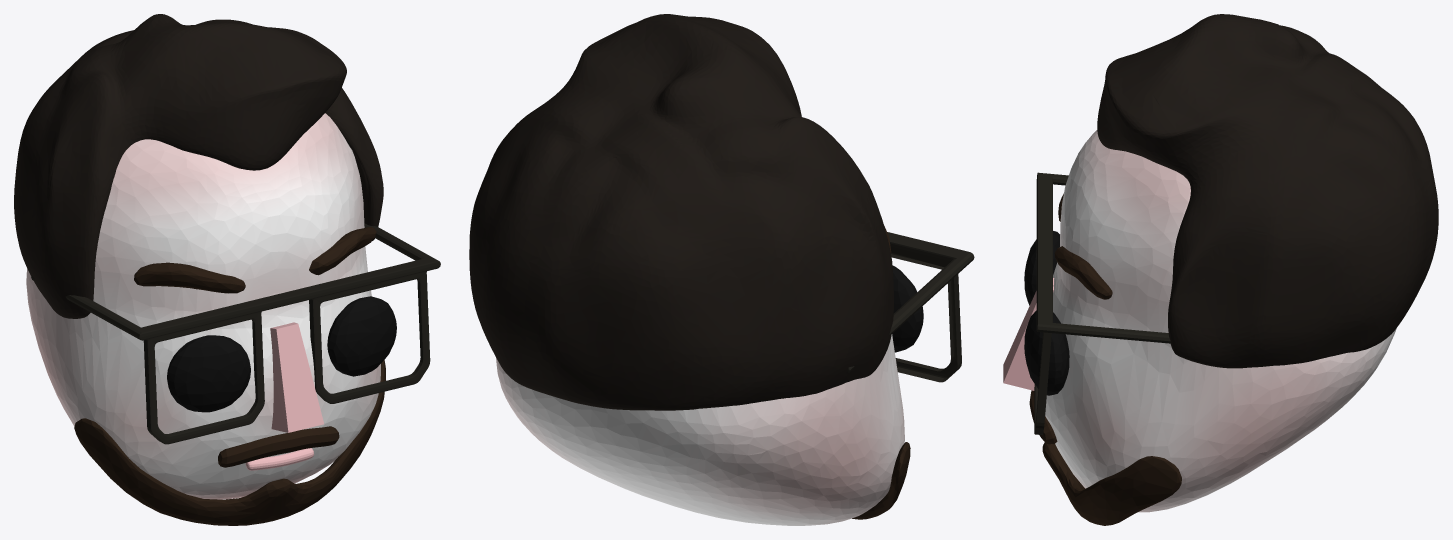
Rendered from avatar.gltf.
3 renders of one model, left to right at view 1: azimuth 30°, elevation 25°; view 2: azimuth 150°, elevation 25°; view 3: azimuth 270°, elevation 25°, orthographic. The views are drawn at different scales.
Parts seen in each view (by area): view 1: Head, Hair, Glasses, Beard, Eyes, Nose, Eyebrows, Mostache, Lips; view 2: Hair, Head, Glasses, Eyes, Beard; view 3: Hair, Head, Beard, Glasses, Eyes, Nose, Eyebrows.
Boxes of the visible parts, box(x1,y1,x2,y2) form: Head: box(26, 113, 380, 499); Hair: box(14, 14, 383, 318); Glasses: box(31, 223, 440, 444); Beard: box(74, 360, 385, 525); Eyes: box(167, 296, 396, 412); Nose: box(270, 322, 323, 432); Eyebrows: box(134, 227, 376, 293); Mostache: box(218, 426, 339, 467); Lips: box(245, 448, 314, 470); Hair: box(469, 14, 893, 410); Head: box(496, 334, 904, 525); Glasses: box(846, 232, 974, 382); Eyes: box(892, 265, 923, 352); Beard: box(852, 442, 910, 519); Hair: box(1097, 14, 1438, 368); Head: box(1045, 130, 1396, 512); Beard: box(1042, 442, 1181, 525); Glasses: box(1034, 172, 1170, 434); Eyes: box(1024, 231, 1069, 395); Nose: box(1003, 278, 1054, 390); Eyebrows: box(1054, 193, 1112, 299).
Bounding box in the file's own units: 2.82 × 3.79 × 3.15.
